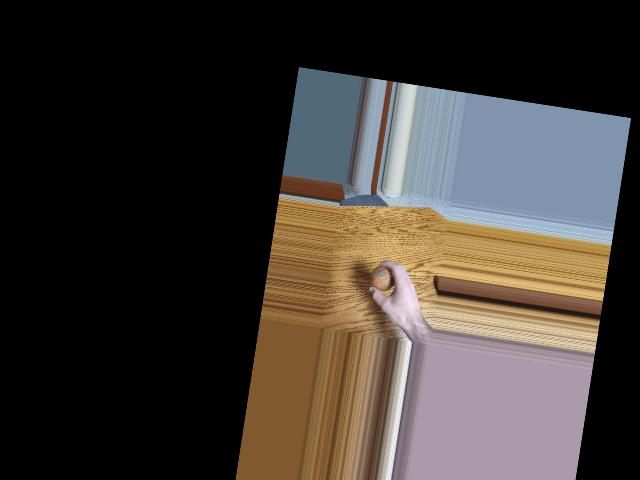onion: (368, 263, 395, 293)
